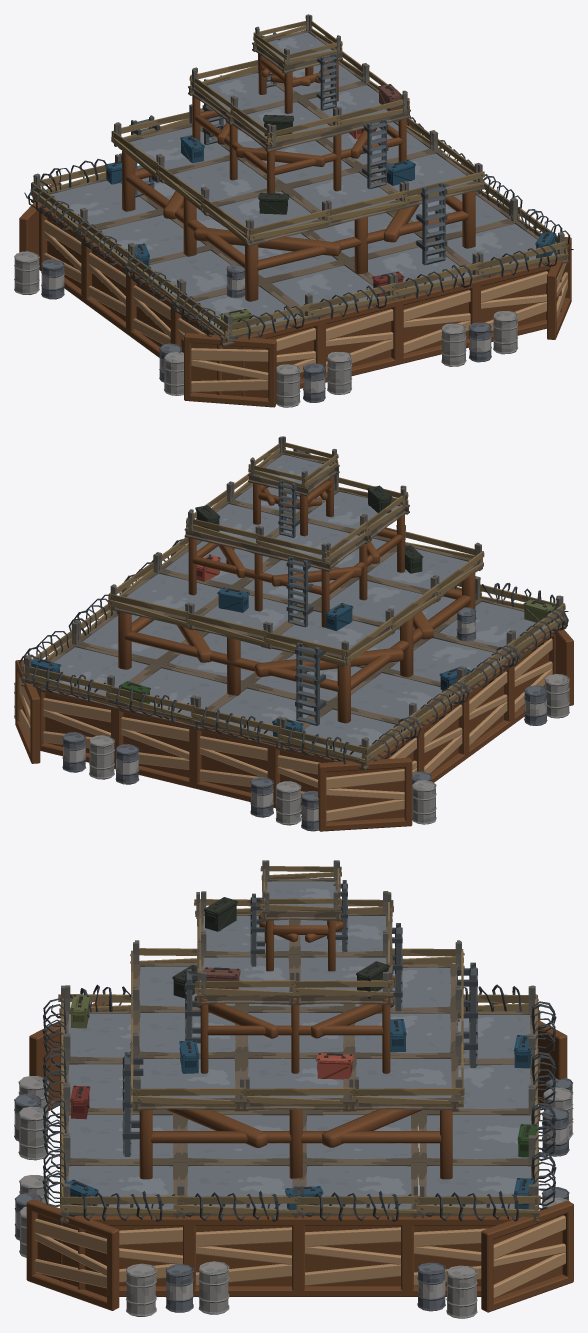
The model's file is Bunker.fbx.
3 renders of one model, top to bottom at view 1: azimuth 30°, elevation 25°; view 2: azimuth 150°, elevation 25°; view 3: azimuth 270°, elevation 25°, orthographic. The views are drawn at different scales.
Visible parts, largest first — view 1: Bunker; view 2: Bunker; view 3: Bunker.
Part boxes in pixels (x1,y1,x2,y2): Bunker: [14, 14, 573, 407]; Bunker: [14, 436, 573, 831]; Bunker: [14, 860, 573, 1318].
Size of the model in its own units: 16.3 by 9.66 by 15.4.
3 materials, 1 textured.
